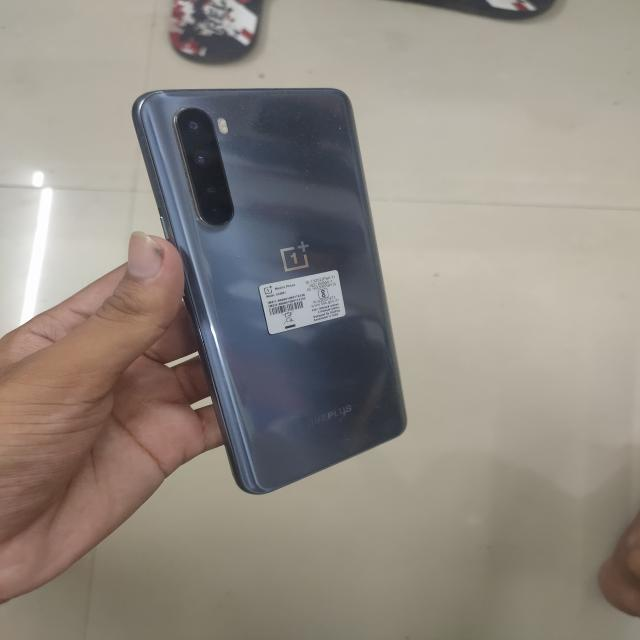Phone: (134, 81, 412, 498)
